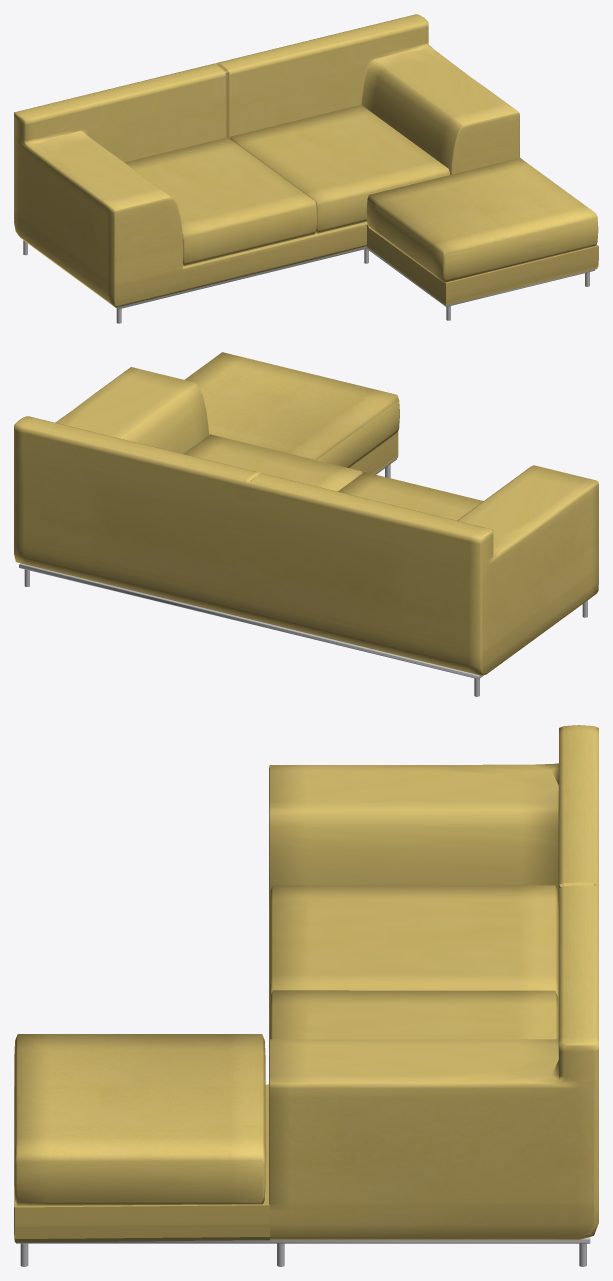
The model's file is Kramfors_Sofa_Combinaison-3D.DAE.
The picture shows the model from 3 angles, top to bottom: view 1: azimuth 30°, elevation 25°; view 2: azimuth 150°, elevation 25°; view 3: azimuth 270°, elevation 25°; orthographic projection. The views are drawn at different scales.
Visible parts, largest first — view 1: Box01-Pivot, Object03-Pivot, Object01-Pivot, Object02-Pivot; view 2: Box01-Pivot, Object03-Pivot, Object02-Pivot, Object01-Pivot; view 3: Box01-Pivot, Object03-Pivot, Object01-Pivot, Object02-Pivot.
Boxes of the visible parts, box(x1,y1,x2,y2) form: Box01-Pivot: box(14, 14, 598, 323); Object03-Pivot: box(366, 158, 598, 283); Object01-Pivot: box(124, 137, 317, 266); Object02-Pivot: box(229, 105, 450, 233); Box01-Pivot: box(14, 367, 598, 696); Object03-Pivot: box(184, 352, 399, 467); Object02-Pivot: box(183, 434, 362, 491); Object01-Pivot: box(338, 472, 483, 520); Box01-Pivot: box(14, 725, 598, 1266); Object03-Pivot: box(14, 1034, 265, 1205); Object01-Pivot: box(269, 885, 558, 1014); Object02-Pivot: box(269, 990, 558, 1040).
Bounding box in the file's own units: 2225 × 740 × 1720.
